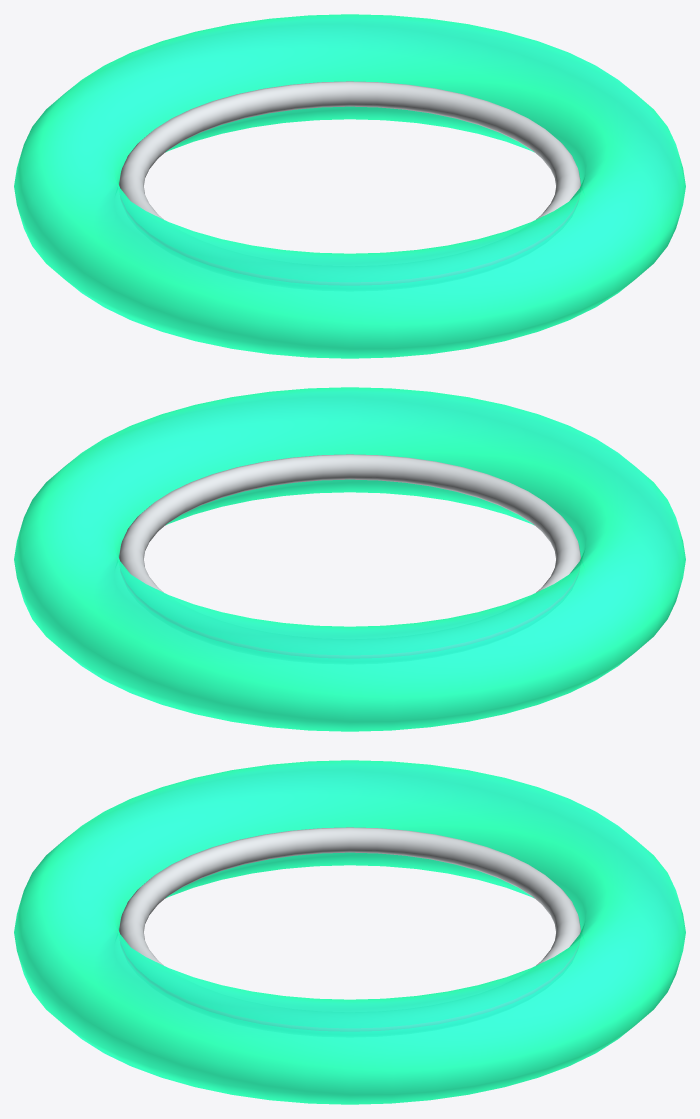
Rendered from vennet-portal.glb.
3 renders of one model, top to bottom at view 1: azimuth 30°, elevation 25°; view 2: azimuth 150°, elevation 25°; view 3: azimuth 270°, elevation 25°, orthographic.
Parts seen in each view (by area): view 1: Portal_Ring_Emerald, Portal_Ring_Chrome; view 2: Portal_Ring_Emerald, Portal_Ring_Chrome; view 3: Portal_Ring_Emerald, Portal_Ring_Chrome.
Boxes of the visible parts, x1,y1,x2,y2 form: Portal_Ring_Emerald: (14,14,685,358); Portal_Ring_Chrome: (119,81,580,285); Portal_Ring_Emerald: (14,387,685,731); Portal_Ring_Chrome: (119,454,580,658); Portal_Ring_Emerald: (14,760,685,1104); Portal_Ring_Chrome: (119,827,580,1031).
Size of the model in its own units: 3.44 by 0.54 by 3.44.
